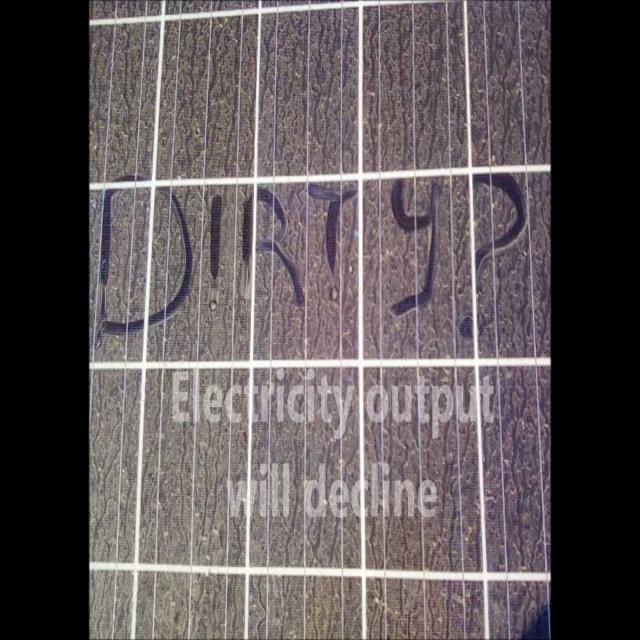dust-solar-panel: (85, 0, 551, 640)
